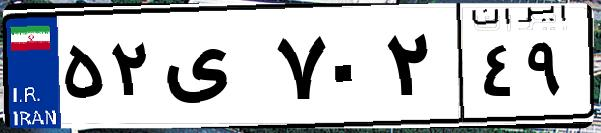0: (330, 28, 385, 110)
2: (385, 28, 445, 110), (110, 28, 158, 98)
4: (475, 38, 525, 113)
5: (57, 26, 110, 100)
7: (270, 28, 330, 110)
9: (525, 38, 570, 115)
ی: (158, 20, 270, 120)
